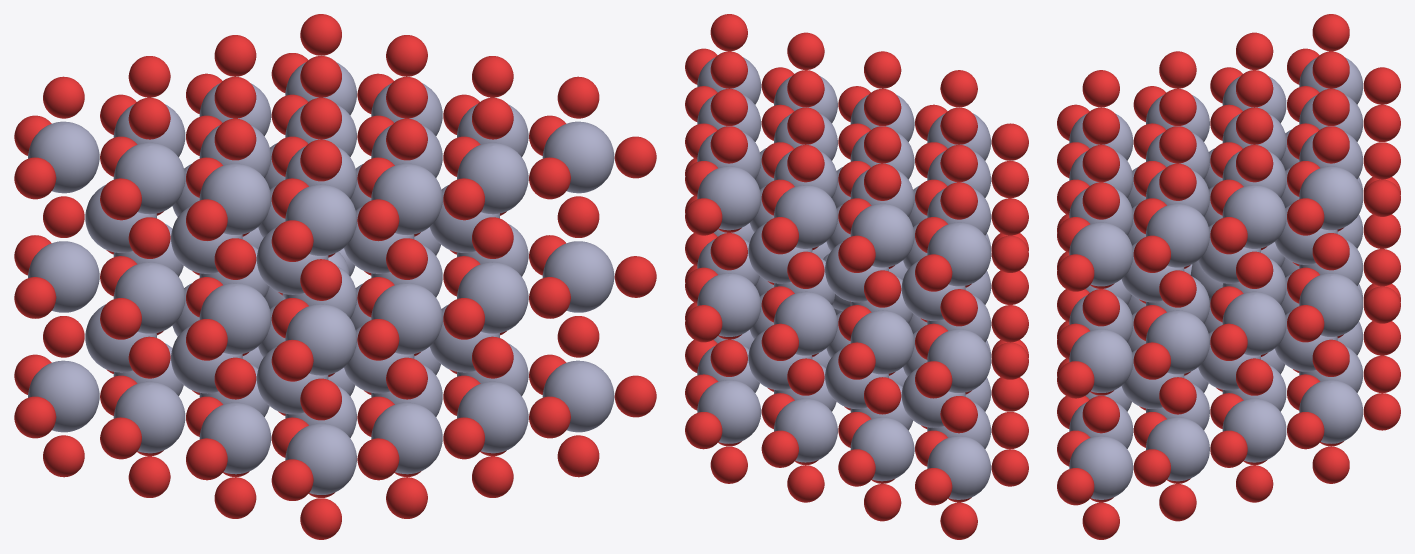
File: ZnO_xyz.fbx
3 views of the same model, side by side, from view 1: azimuth 30°, elevation 25°; view 2: azimuth 150°, elevation 25°; view 3: azimuth 270°, elevation 25° (orthographic). The views are drawn at different scales.
Visible parts, largest first — view 1: Zinc|Ball (NURBS)_Zinc|Dupli|38.0.0.0.0.0.0.0.0, Zinc|Ball (NURBS)_Zinc|Dupli|6.0.0.0.0.0.0.0.0, Zinc|Ball (NURBS)_Zinc|Dupli|11.0.0.0.0.0.0.0.0, Zinc|Ball (NURBS)_Zinc|Dupli|2.0.0.0.0.0.0.0.0, Zinc|Ball (NURBS)_Zinc|Dupli|5.0.0.0.0.0.0.0.0, Zinc|Ball (NURBS)_Zinc|Dupli|8.0.0.0.0.0.0.0.0, Zinc|Ball (NURBS)_Zinc|Dupli|9.0.0.0.0.0.0.0.0, Zinc|Ball (NURBS)_Zinc|Dupli|12.0.0.0.0.0.0.0.0, Zinc|Ball (NURBS)_Zinc|Dupli|36.0.0.0.0.0.0.0.0, Zinc|Ball (NURBS)_Zinc|Dupli|3.0.0.0.0.0.0.0.0, Zinc|Ball (NURBS)_Zinc|Dupli|4.0.0.0.0.0.0.0.0, Zinc|Ball (NURBS)_Zinc|Dupli|0.0.0.0.0.0.0.0.0 (+125 smaller); view 2: Zinc|Ball (NURBS)_Zinc|Dupli|22.0.0.0.0.0.0.0.0, Zinc|Ball (NURBS)_Zinc|Dupli|11.0.0.0.0.0.0.0.0, Zinc|Ball (NURBS)_Zinc|Dupli|21.0.0.0.0.0.0.0.0, Zinc|Ball (NURBS)_Zinc|Dupli|23.0.0.0.0.0.0.0.0, Zinc|Ball (NURBS)_Zinc|Dupli|47.0.0.0.0.0.0.0.0, Zinc|Ball (NURBS)_Zinc|Dupli|10.0.0.0.0.0.0.0.0, Zinc|Ball (NURBS)_Zinc|Dupli|33.0.0.0.0.0.0.0.0, Zinc|Ball (NURBS)_Zinc|Dupli|34.0.0.0.0.0.0.0.0, Zinc|Ball (NURBS)_Zinc|Dupli|46.0.0.0.0.0.0.0.0, Zinc|Ball (NURBS)_Zinc|Dupli|9.0.0.0.0.0.0.0.0, Zinc|Ball (NURBS)_Zinc|Dupli|35.0.0.0.0.0.0.0.0, Zinc|Ball (NURBS)_Zinc|Dupli|45.0.0.0.0.0.0.0.0 (+104 smaller); view 3: Zinc|Ball (NURBS)_Zinc|Dupli|42.0.0.0.0.0.0.0.0, Zinc|Ball (NURBS)_Zinc|Dupli|43.0.0.0.0.0.0.0.0, Zinc|Ball (NURBS)_Zinc|Dupli|38.0.0.0.0.0.0.0.0, Zinc|Ball (NURBS)_Zinc|Dupli|40.0.0.0.0.0.0.0.0, Zinc|Ball (NURBS)_Zinc|Dupli|37.0.0.0.0.0.0.0.0, Zinc|Ball (NURBS)_Zinc|Dupli|39.0.0.0.0.0.0.0.0, Zinc|Ball (NURBS)_Zinc|Dupli|47.0.0.0.0.0.0.0.0, Zinc|Ball (NURBS)_Zinc|Dupli|36.0.0.0.0.0.0.0.0, Zinc|Ball (NURBS)_Zinc|Dupli|44.0.0.0.0.0.0.0.0, Zinc|Ball (NURBS)_Zinc|Dupli|41.0.0.0.0.0.0.0.0, Zinc|Ball (NURBS)_Zinc|Dupli|45.0.0.0.0.0.0.0.0, Zinc|Ball (NURBS)_Zinc|Dupli|46.0.0.0.0.0.0.0.0 (+105 smaller).
Boxes of the visible parts, bbox=[...] form: Zinc|Ball (NURBS)_Zinc|Dupli|38.0.0.0.0.0.0.0.0: bbox=[542, 121, 614, 193]; Zinc|Ball (NURBS)_Zinc|Dupli|6.0.0.0.0.0.0.0.0: bbox=[113, 381, 185, 453]; Zinc|Ball (NURBS)_Zinc|Dupli|11.0.0.0.0.0.0.0.0: bbox=[28, 121, 99, 193]; Zinc|Ball (NURBS)_Zinc|Dupli|2.0.0.0.0.0.0.0.0: bbox=[285, 184, 356, 255]; Zinc|Ball (NURBS)_Zinc|Dupli|5.0.0.0.0.0.0.0.0: bbox=[199, 163, 271, 234]; Zinc|Ball (NURBS)_Zinc|Dupli|8.0.0.0.0.0.0.0.0: bbox=[113, 142, 185, 214]; Zinc|Ball (NURBS)_Zinc|Dupli|9.0.0.0.0.0.0.0.0: bbox=[28, 360, 99, 432]; Zinc|Ball (NURBS)_Zinc|Dupli|12.0.0.0.0.0.0.0.0: bbox=[371, 402, 442, 474]; Zinc|Ball (NURBS)_Zinc|Dupli|36.0.0.0.0.0.0.0.0: bbox=[542, 360, 614, 432]; Zinc|Ball (NURBS)_Zinc|Dupli|3.0.0.0.0.0.0.0.0: bbox=[199, 402, 271, 474]; Zinc|Ball (NURBS)_Zinc|Dupli|4.0.0.0.0.0.0.0.0: bbox=[199, 283, 271, 354]; Zinc|Ball (NURBS)_Zinc|Dupli|0.0.0.0.0.0.0.0.0: bbox=[285, 423, 356, 494]; Zinc|Ball (NURBS)_Zinc|Dupli|22.0.0.0.0.0.0.0.0: bbox=[850, 310, 914, 374]; Zinc|Ball (NURBS)_Zinc|Dupli|11.0.0.0.0.0.0.0.0: bbox=[927, 222, 991, 286]; Zinc|Ball (NURBS)_Zinc|Dupli|21.0.0.0.0.0.0.0.0: bbox=[850, 417, 914, 481]; Zinc|Ball (NURBS)_Zinc|Dupli|23.0.0.0.0.0.0.0.0: bbox=[850, 203, 914, 267]; Zinc|Ball (NURBS)_Zinc|Dupli|47.0.0.0.0.0.0.0.0: bbox=[697, 166, 761, 230]; Zinc|Ball (NURBS)_Zinc|Dupli|10.0.0.0.0.0.0.0.0: bbox=[927, 329, 991, 392]; Zinc|Ball (NURBS)_Zinc|Dupli|33.0.0.0.0.0.0.0.0: bbox=[774, 398, 837, 462]; Zinc|Ball (NURBS)_Zinc|Dupli|34.0.0.0.0.0.0.0.0: bbox=[774, 291, 837, 355]; Zinc|Ball (NURBS)_Zinc|Dupli|46.0.0.0.0.0.0.0.0: bbox=[697, 273, 761, 336]; Zinc|Ball (NURBS)_Zinc|Dupli|9.0.0.0.0.0.0.0.0: bbox=[927, 436, 991, 499]; Zinc|Ball (NURBS)_Zinc|Dupli|35.0.0.0.0.0.0.0.0: bbox=[774, 185, 837, 248]; Zinc|Ball (NURBS)_Zinc|Dupli|45.0.0.0.0.0.0.0.0: bbox=[697, 380, 761, 443]; Zinc|Ball (NURBS)_Zinc|Dupli|42.0.0.0.0.0.0.0.0: bbox=[1222, 398, 1286, 462]; Zinc|Ball (NURBS)_Zinc|Dupli|43.0.0.0.0.0.0.0.0: bbox=[1222, 291, 1286, 355]; Zinc|Ball (NURBS)_Zinc|Dupli|38.0.0.0.0.0.0.0.0: bbox=[1069, 222, 1133, 286]; Zinc|Ball (NURBS)_Zinc|Dupli|40.0.0.0.0.0.0.0.0: bbox=[1146, 310, 1209, 374]; Zinc|Ball (NURBS)_Zinc|Dupli|37.0.0.0.0.0.0.0.0: bbox=[1069, 329, 1133, 392]; Zinc|Ball (NURBS)_Zinc|Dupli|39.0.0.0.0.0.0.0.0: bbox=[1146, 417, 1209, 481]; Zinc|Ball (NURBS)_Zinc|Dupli|47.0.0.0.0.0.0.0.0: bbox=[1299, 166, 1362, 230]; Zinc|Ball (NURBS)_Zinc|Dupli|36.0.0.0.0.0.0.0.0: bbox=[1069, 436, 1133, 499]; Zinc|Ball (NURBS)_Zinc|Dupli|44.0.0.0.0.0.0.0.0: bbox=[1222, 185, 1286, 248]; Zinc|Ball (NURBS)_Zinc|Dupli|41.0.0.0.0.0.0.0.0: bbox=[1146, 203, 1209, 267]; Zinc|Ball (NURBS)_Zinc|Dupli|45.0.0.0.0.0.0.0.0: bbox=[1299, 380, 1362, 443]; Zinc|Ball (NURBS)_Zinc|Dupli|46.0.0.0.0.0.0.0.0: bbox=[1299, 273, 1362, 336].
Size of the model in its own units: 2046 by 1526 by 1342.
